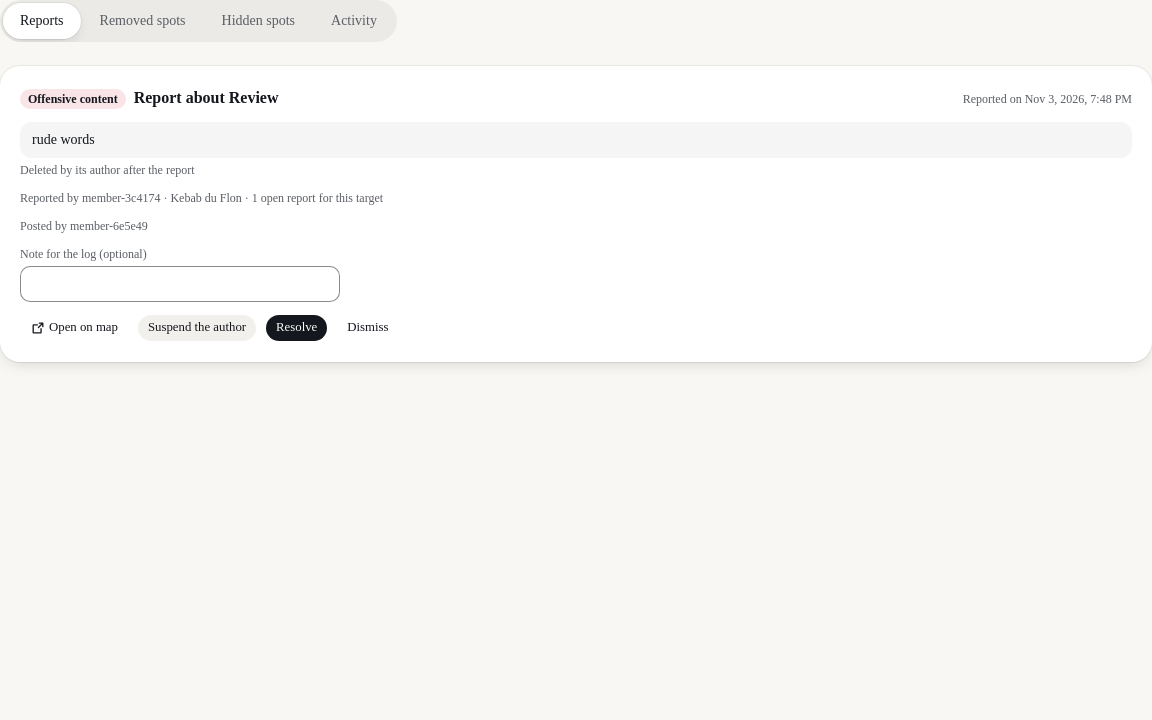
Scenario: ModerationConsole › keeps a deleted review readable and suspends its author after confirmation
The width and height of the screenshot is (1152, 720).
Expected: the text "Deleted by its author after the report" is shown, [20,163,195,177]
Click the button "Suspend the author".
click(197, 328)  # box [137,314,257,342]
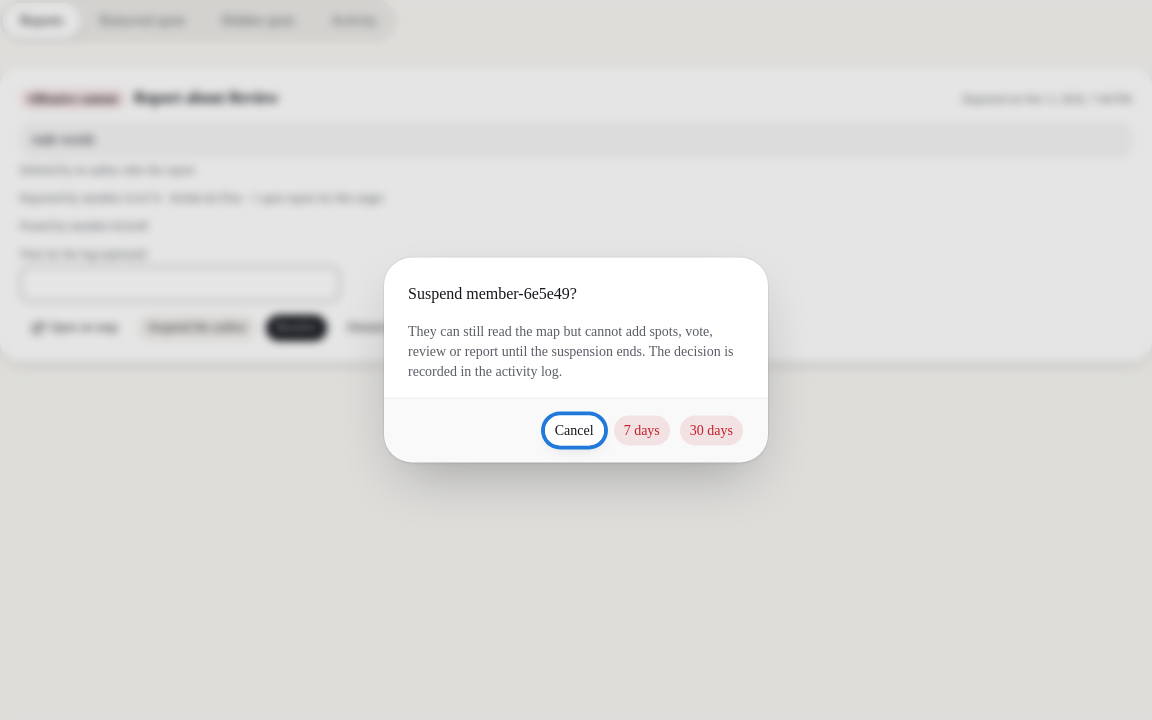
Click the button "7 days".
click(642, 430)  # box [613,414,671,446]
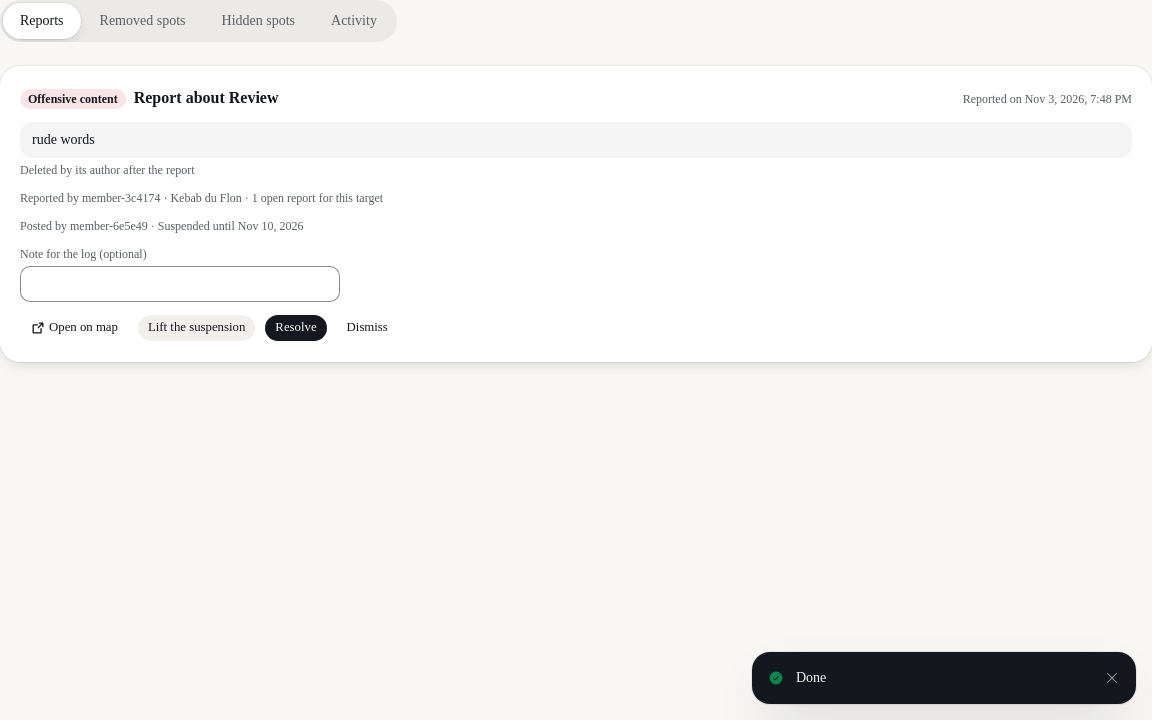
Now the button "Lift the suspension" is shown
Now the text "Posted by member-6e5e49 · Suspended until Nov 10, 2026" is shown, box [20,219,303,233]
Click the button "Lift the suspension".
click(197, 328)  # box [137,314,256,342]
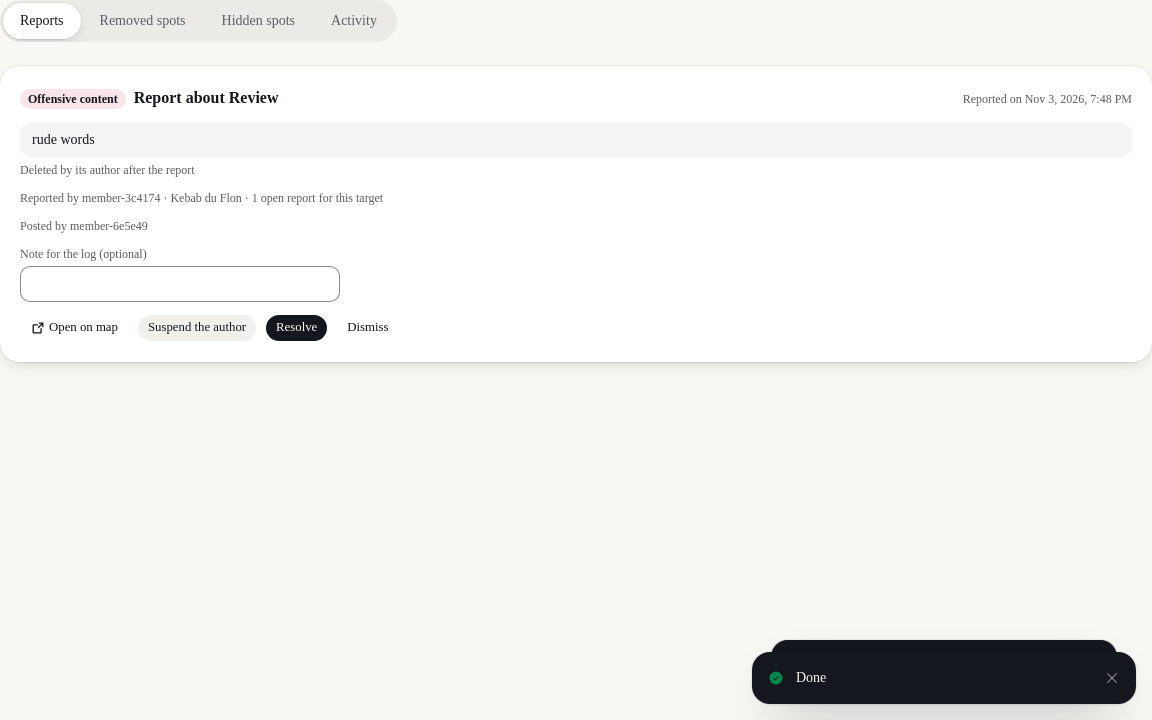
Now the button "Suspend the author" is shown, box [137,314,257,342]
